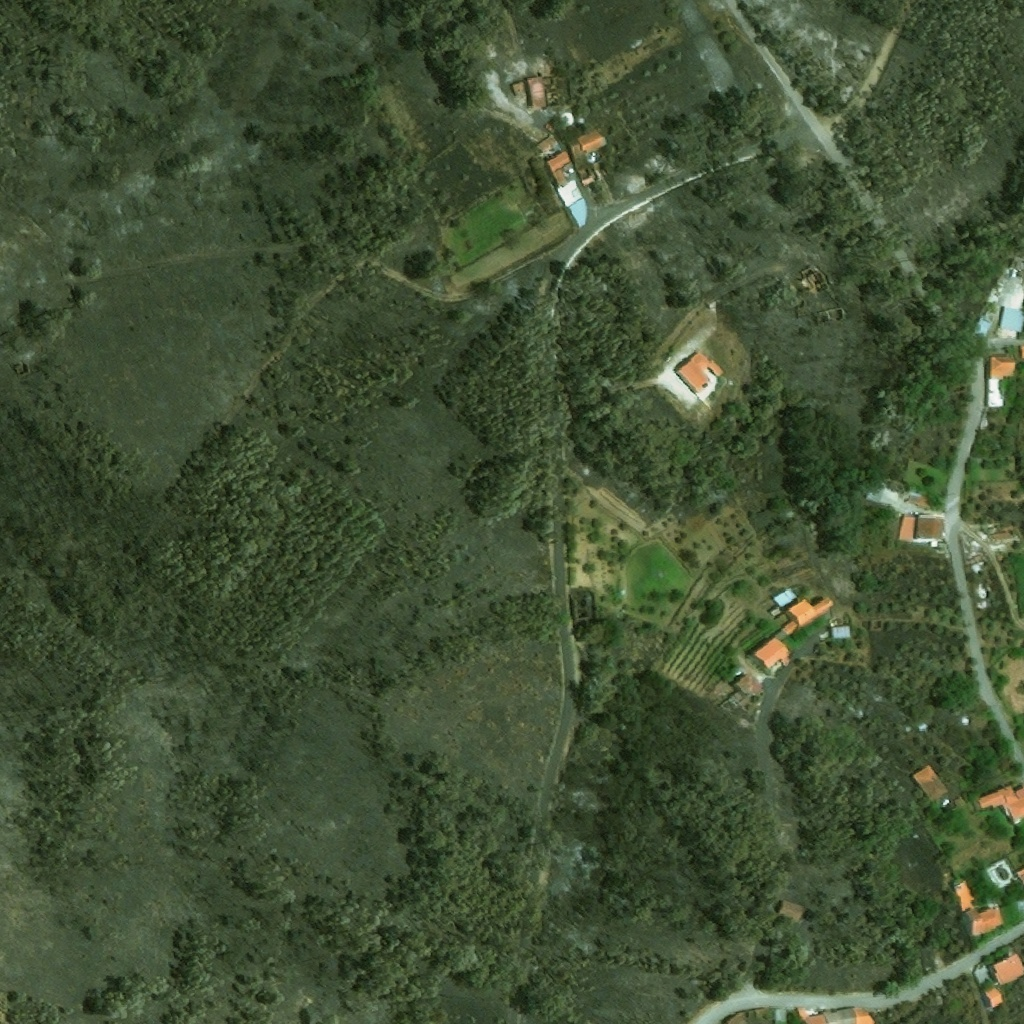0 no-damage: (950, 879, 1004, 937), (673, 349, 722, 395), (974, 785, 1023, 825), (909, 762, 952, 803), (783, 597, 833, 628), (795, 1006, 873, 1023), (750, 637, 789, 671), (898, 515, 945, 543), (987, 953, 1023, 986), (980, 859, 1015, 891), (545, 151, 570, 188), (863, 484, 899, 507), (556, 179, 583, 208), (732, 673, 761, 699), (984, 356, 1015, 380), (1000, 306, 1023, 337), (578, 131, 606, 156), (902, 491, 931, 511), (981, 986, 1004, 1010), (984, 380, 1003, 409), (770, 587, 795, 608), (772, 620, 796, 641), (535, 136, 558, 156), (725, 1010, 757, 1023), (829, 626, 850, 640), (510, 79, 526, 97), (560, 162, 575, 178), (890, 481, 905, 492)
2 major-damage: (526, 64, 556, 109)
3 destroyed: (799, 263, 830, 295), (500, 180, 525, 204), (543, 89, 565, 108), (823, 307, 844, 324), (579, 171, 594, 189), (967, 554, 984, 569), (558, 114, 573, 130), (990, 533, 1009, 543), (867, 620, 881, 631)
4 un-classified: (888, 247, 918, 279), (921, 298, 943, 321)
